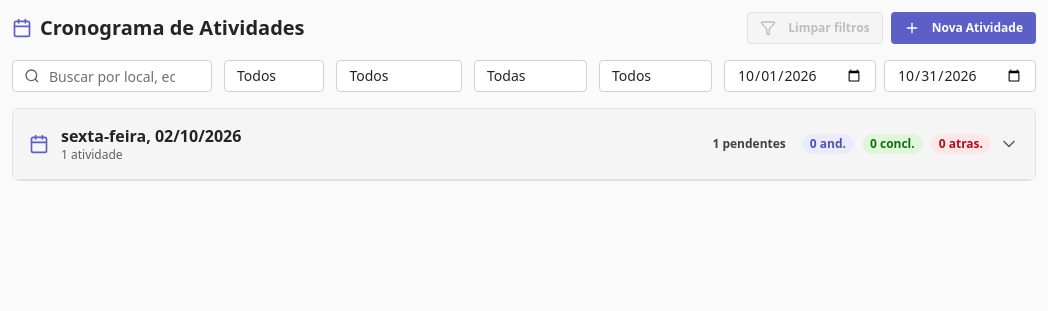
Test case: CronogramaView — ações de execução › desfaz a atualização otimista quando o servidor falha ao iniciar
Click the 3rd button.
click(151, 136)  # box top-left (13, 109), bottom-right (1035, 180)
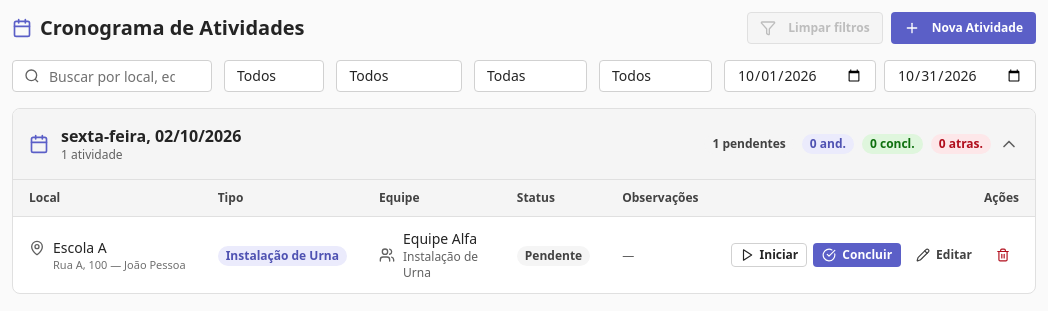
Click the button "Iniciar".
click(769, 255)  # box top-left (731, 243), bottom-right (807, 267)
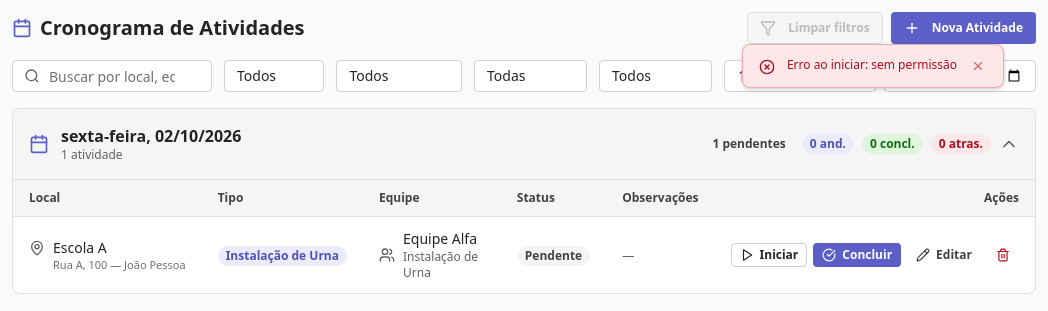
Now the text "Pendente" is shown, box top-left (517, 246), bottom-right (590, 266)
Now the text "Erro ao iniciar: sem permissão" is shown, box top-left (787, 57), bottom-right (957, 73)
